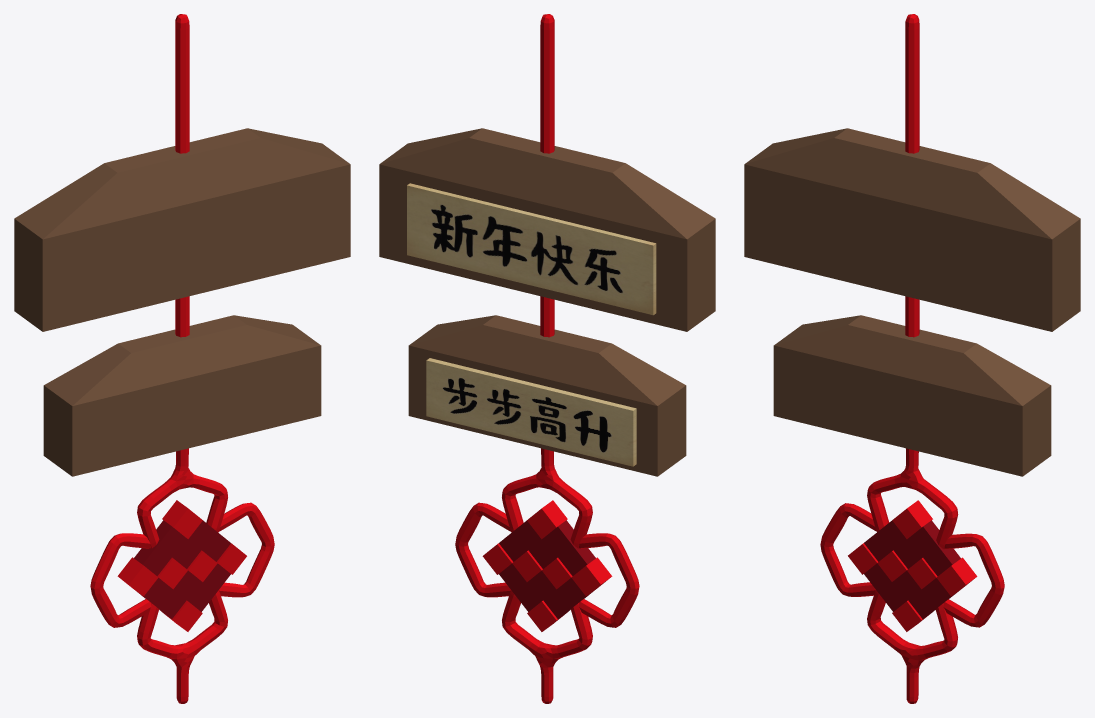
File: Wish.fbx
3 views of the same model, side by side, from view 1: azimuth 30°, elevation 25°; view 2: azimuth 150°, elevation 25°; view 3: azimuth 330°, elevation 25° (orthographic).
Visible parts, largest first — view 1: Cube, Cube.001, Cube.002, Cube.003, Cube.005, Cube.006, Cube.004; view 2: Cube, Cube.001, Cube.002, Cube.003, Cube.005, Cube.006, Cube.004; view 3: Cube, Cube.001, Cube.002, Cube.003, Cube.005, Cube.004, Cube.006.
Boxes of the visible parts, x1,y1,x2,y2 form: Cube: [14, 128, 350, 331]; Cube.001: [43, 315, 321, 476]; Cube.002: [117, 500, 246, 631]; Cube.003: [137, 14, 227, 548]; Cube.005: [137, 590, 227, 703]; Cube.006: [90, 533, 151, 627]; Cube.004: [218, 502, 274, 597]; Cube: [379, 128, 715, 331]; Cube.001: [408, 315, 686, 476]; Cube.002: [482, 500, 612, 631]; Cube.003: [502, 14, 592, 548]; Cube.005: [502, 590, 592, 703]; Cube.006: [578, 533, 639, 627]; Cube.004: [455, 502, 511, 597]; Cube: [744, 128, 1080, 331]; Cube.001: [773, 315, 1051, 476]; Cube.002: [848, 500, 977, 631]; Cube.003: [867, 14, 958, 549]; Cube.005: [867, 590, 957, 703]; Cube.004: [943, 533, 1004, 627]; Cube.006: [820, 503, 876, 596].
Size of the model in its own units: 69.66 by 149 by 12.5.
Materials: 5 (2 with a texture image).
